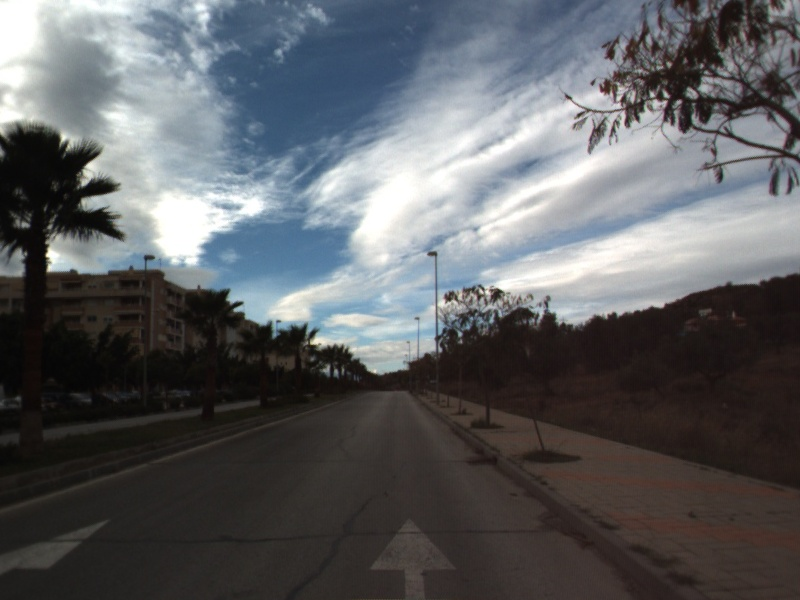STRAIGHT: (367, 515, 459, 600), (1, 516, 114, 578)
